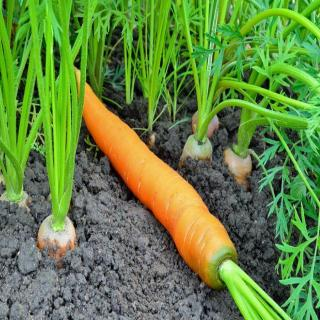carrot: (59, 52, 245, 290)
